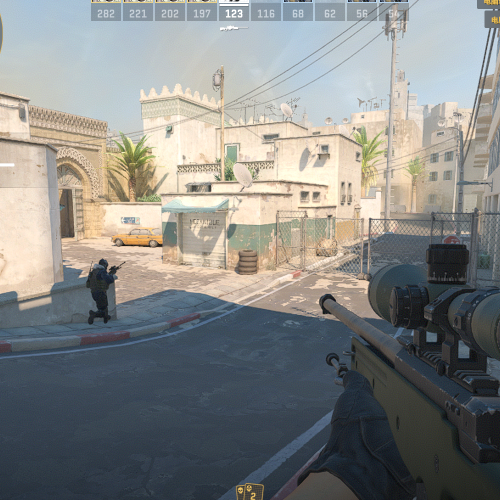ct_body: (87, 257, 115, 325)
ct_head: (98, 257, 109, 270)
